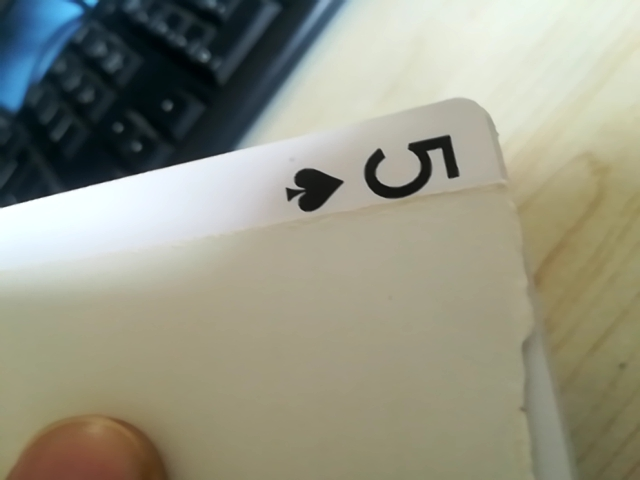ht 5: (274, 134, 470, 225)
